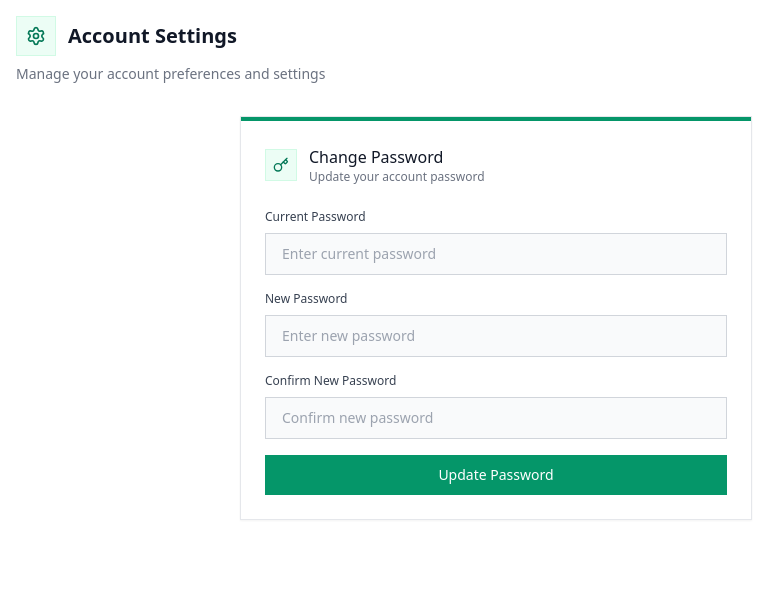
SettingsClientPage › Password Update › validates password length
Type "oldpass" into the password field labelled "Current Password" at (496, 254), box x1=265 y1=233 x2=727 y2=275
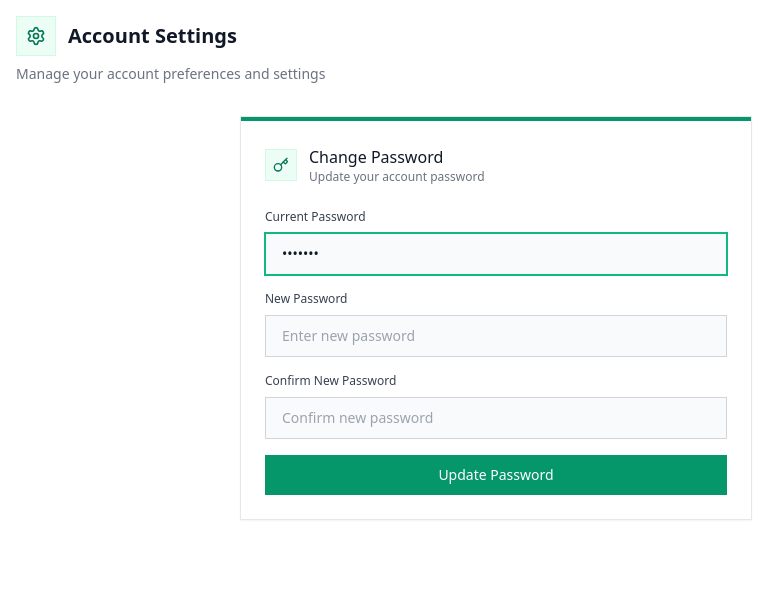
Type "123" into the password field labelled "New Password" at (496, 336), box x1=265 y1=315 x2=727 y2=357
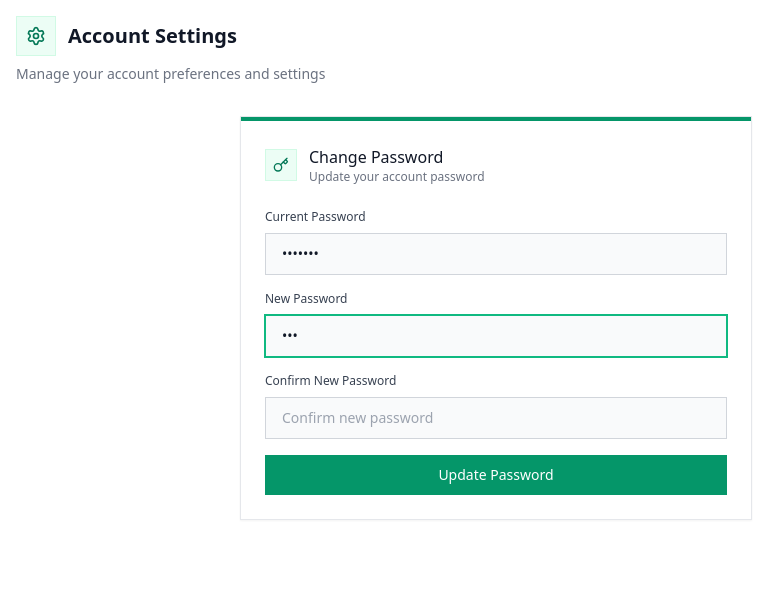
Type "123" into the password field labelled "Confirm New Password" at (496, 418), box x1=265 y1=397 x2=727 y2=439
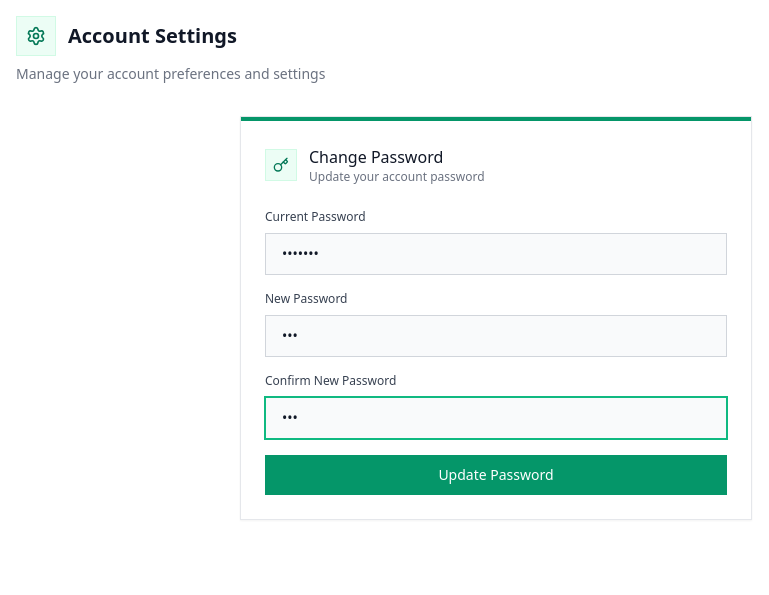
Click the button "Update Password" at (496, 475), box x1=265 y1=455 x2=727 y2=495
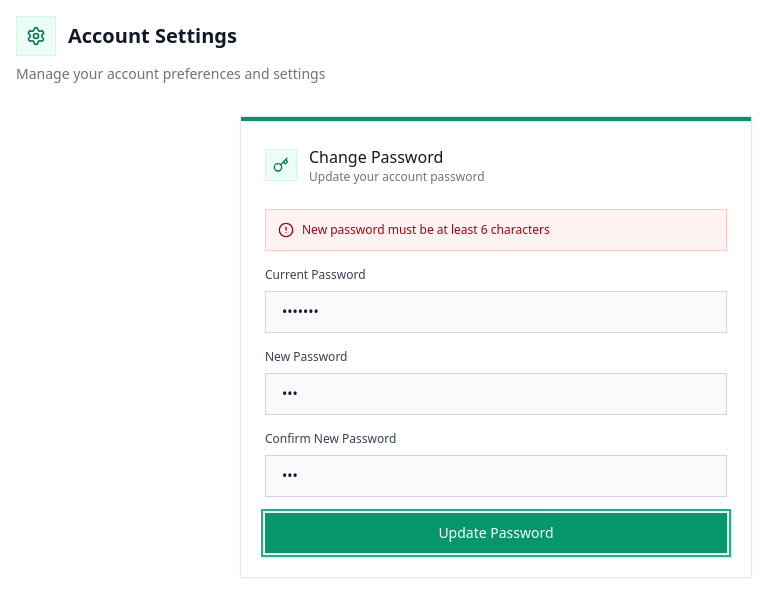
Now the text "New password must be at least 6 characters" is shown, box x1=302 y1=222 x2=550 y2=238
